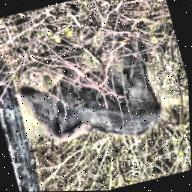boar: (8, 20, 175, 161)
